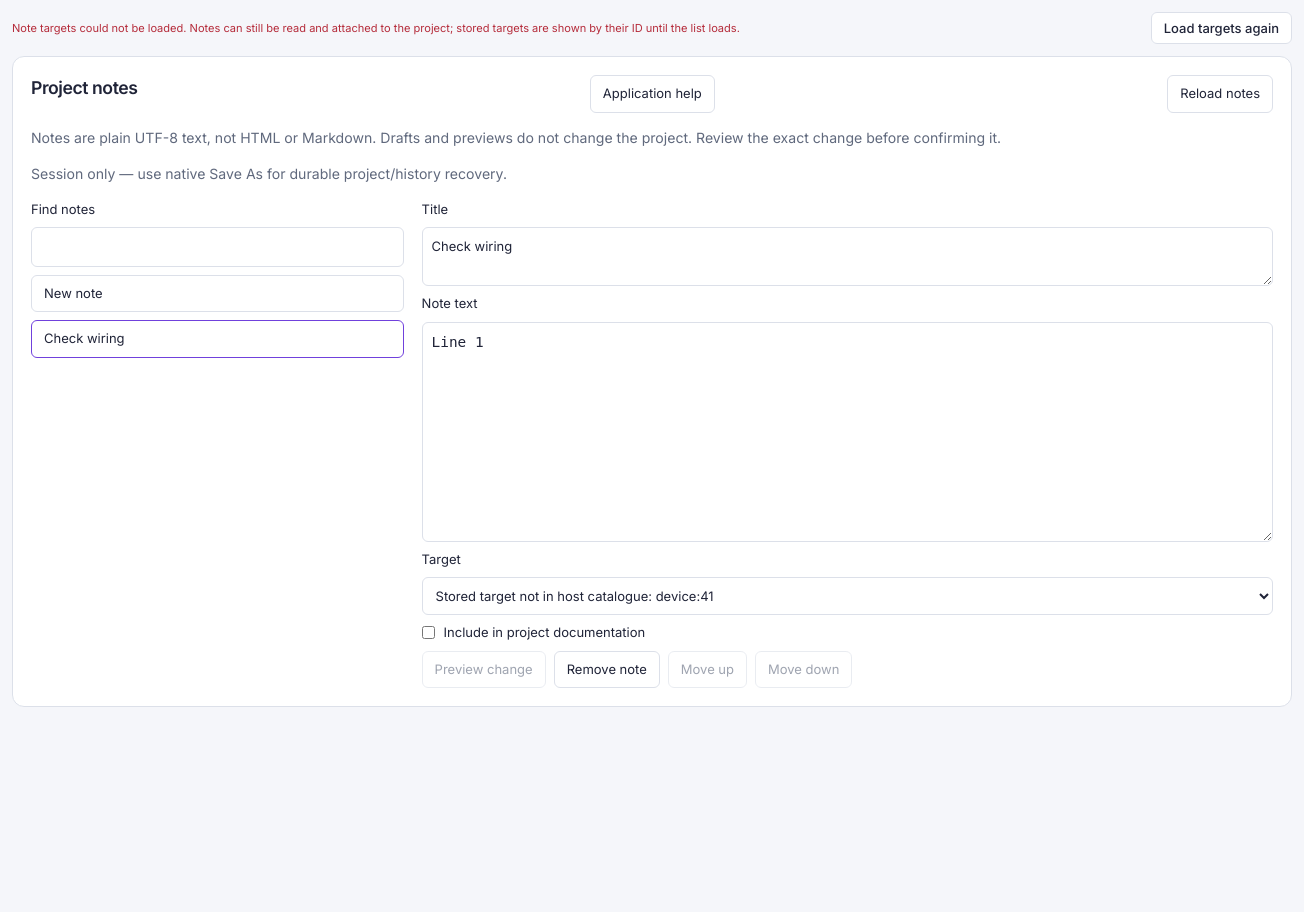
Test: NotesWorkspace › keeps the editor usable when the catalogue fails, says so, and retries on request
This screenshot has width=1304, height=912.
Check: the message shows "Note targets could not be loaded", box left=12, top=21, right=740, bottom=35
What coordinates should you click on to do the following:
click the button "Load targets again"
I would click on:
 (1221, 28)
Its box is left=1151, top=12, right=1292, bottom=44.
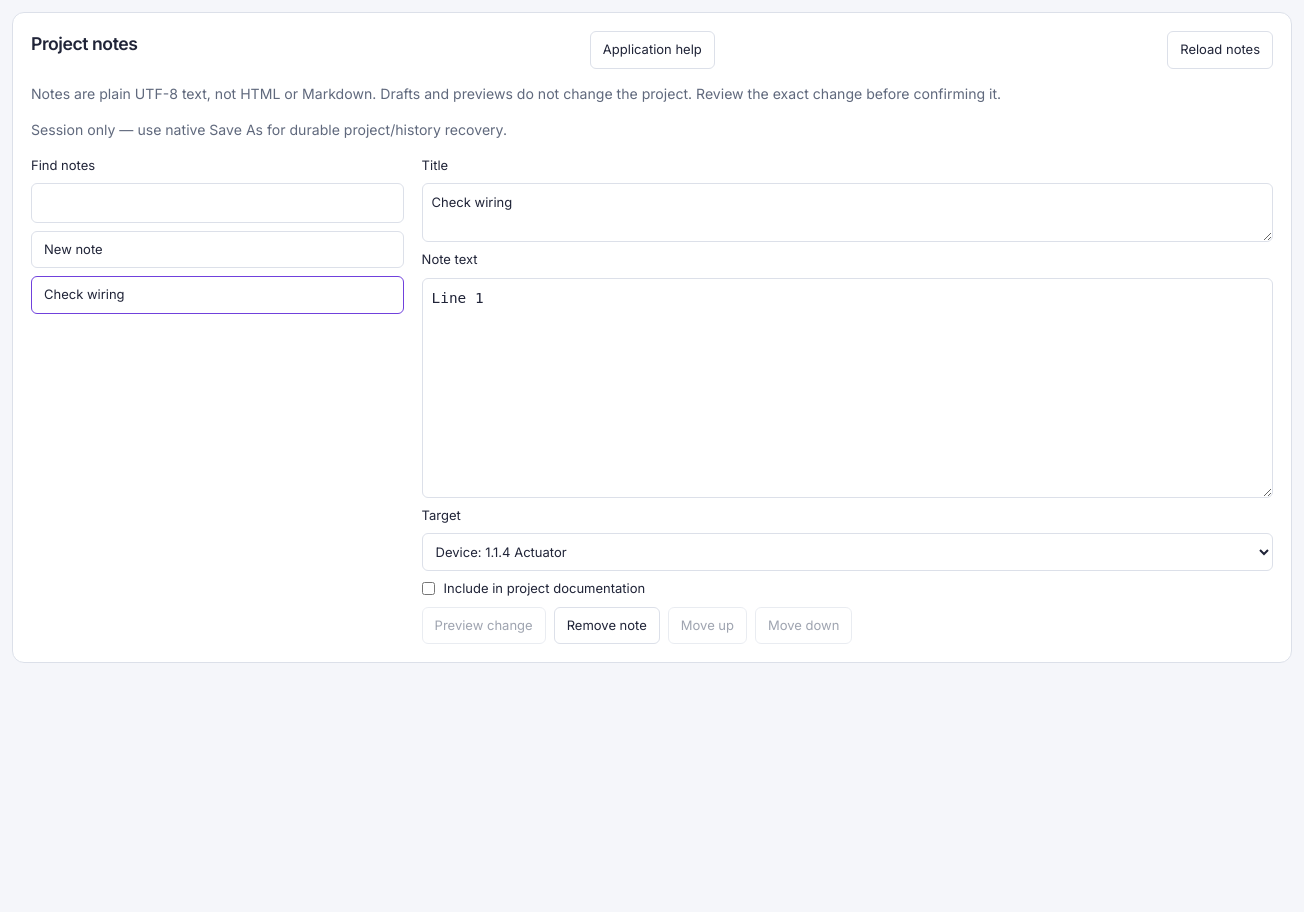
Check: the message is gone
